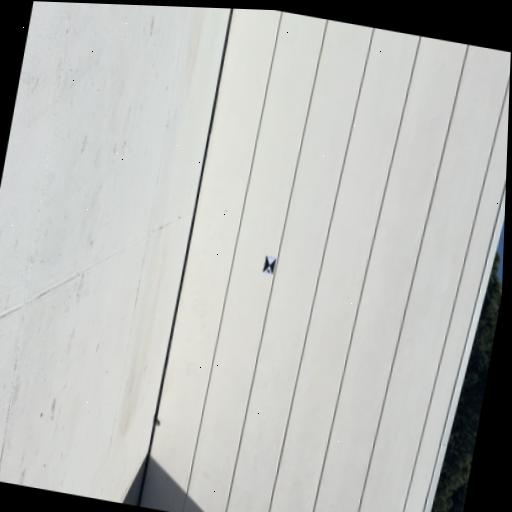target7: (263, 255, 276, 276)
